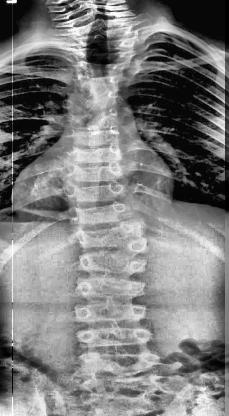Vertebrae: (82, 251, 148, 278), (75, 327, 158, 347), (76, 225, 150, 247), (63, 16, 144, 36), (72, 302, 150, 322), (75, 278, 149, 298), (63, 203, 134, 221), (68, 183, 124, 201), (80, 38, 136, 54), (72, 164, 124, 180), (71, 145, 123, 161), (76, 70, 126, 86), (72, 107, 119, 123), (78, 54, 130, 68), (70, 90, 116, 104), (72, 130, 124, 142)
